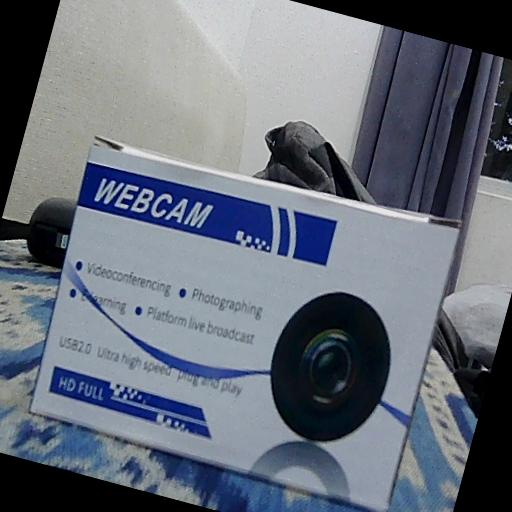webcam_box: (18, 123, 465, 512)
